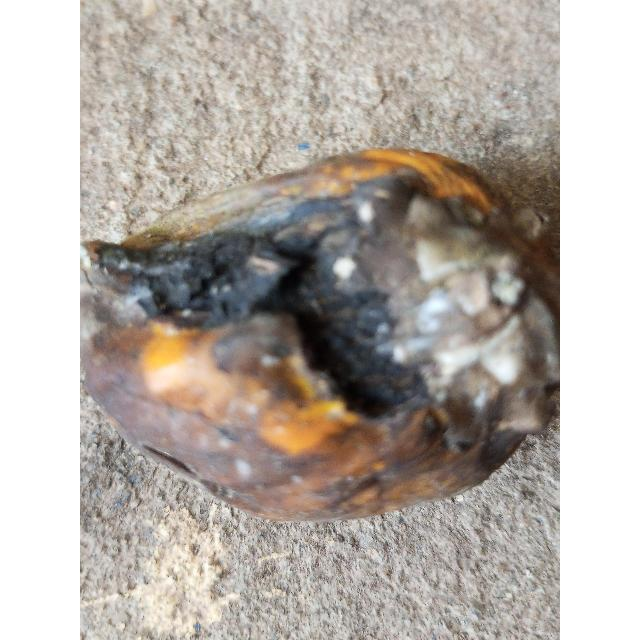damaged: (80, 148, 560, 524)
